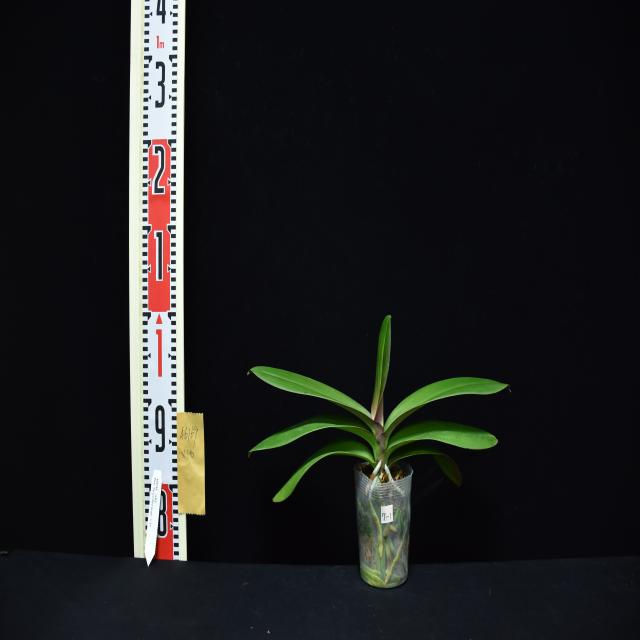leaf: (384, 378, 512, 446), (250, 365, 373, 430), (272, 441, 375, 502), (250, 419, 383, 455), (387, 421, 498, 459), (389, 446, 461, 485), (372, 314, 391, 440)
